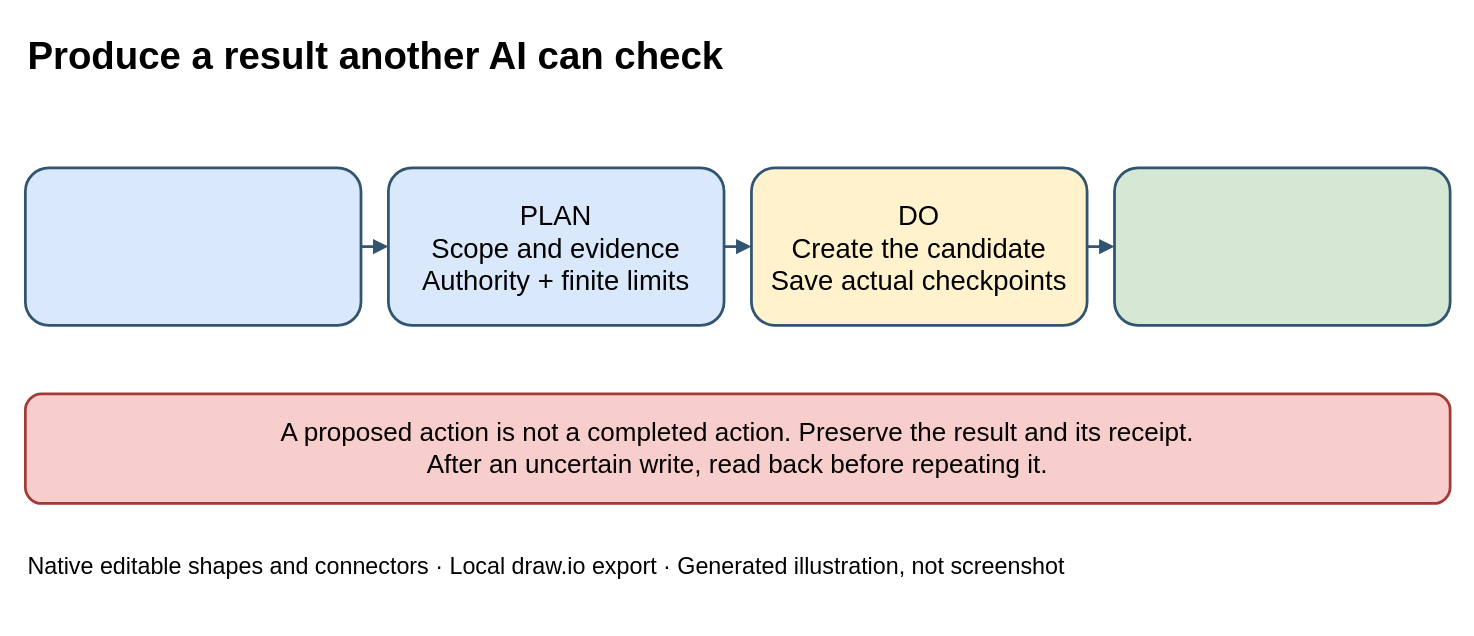
The diagram is 1474 pixels wide and 636 high, and some of its shapes have lost their labels. The box of each missing label's shape, as (x1, y1, x2, y2) in pixels:
HAND OVER Exact output + sources Checks and open issues: (1112, 166, 1451, 326)
READ Current request + state Exact source versions: (23, 166, 362, 326)
